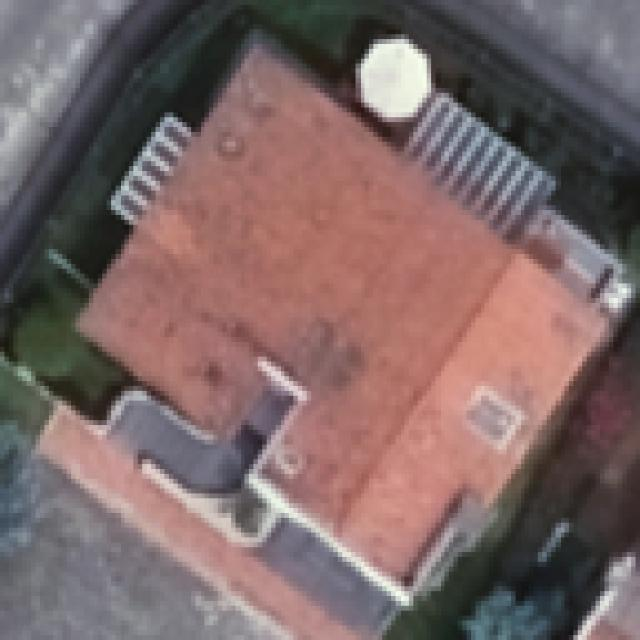Batiment: (78, 47, 608, 585)
